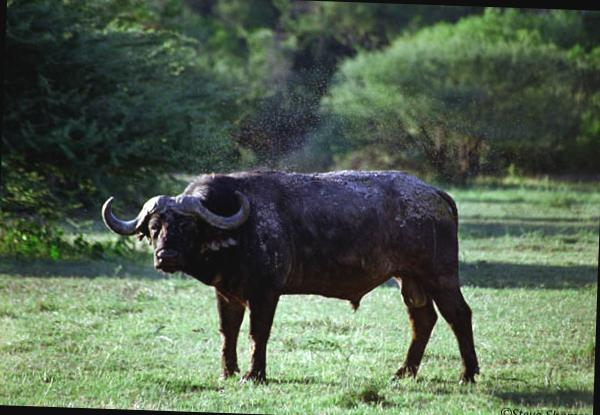Buffalo: (91, 80, 536, 415)
